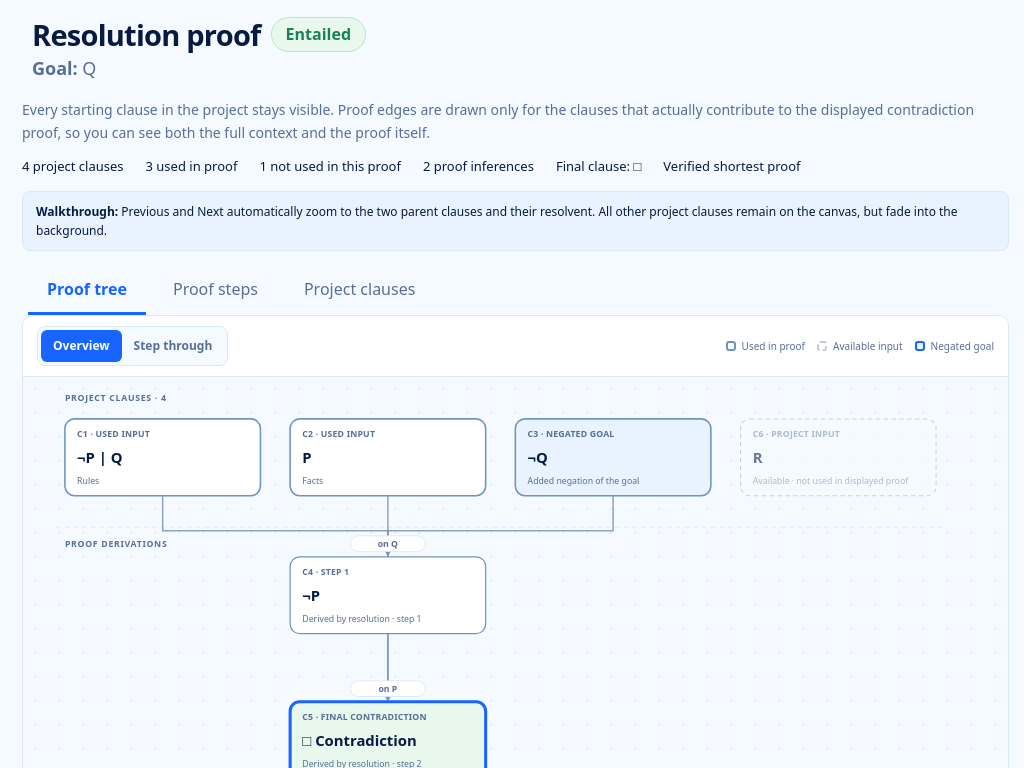
Test: ResolutionView › announces the contradiction and completes the project when the final proof step is reached
Click the button "Step through": x=173, y=346 [122, 330, 224, 362]
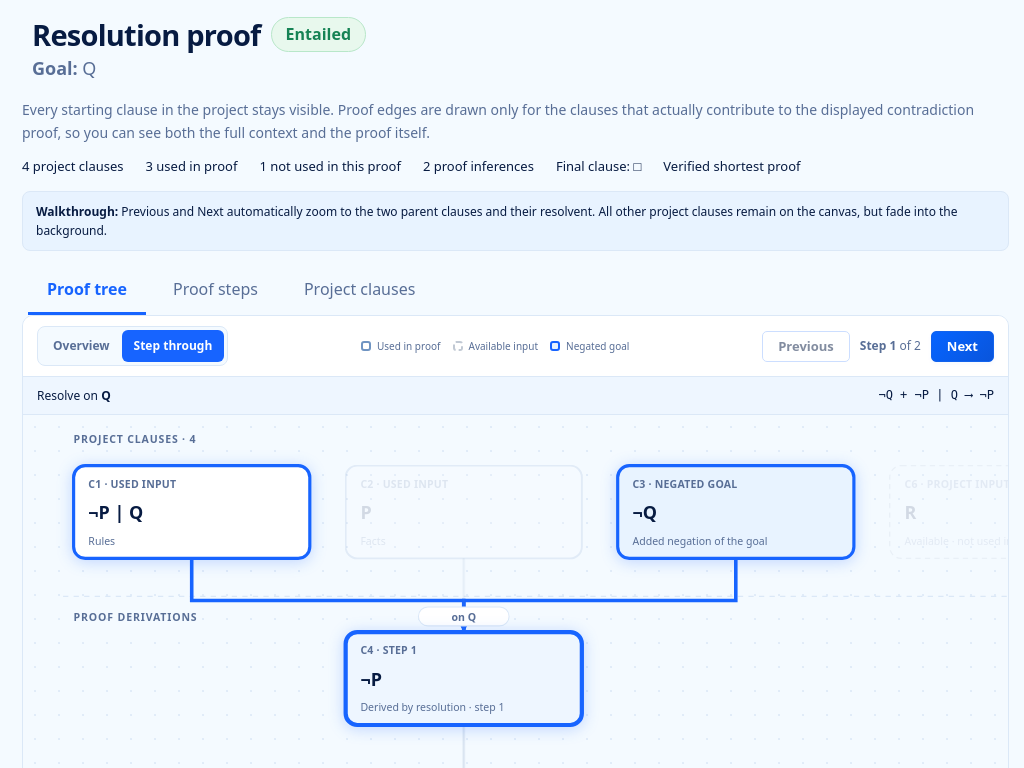
Click the button "Next": x=962, y=346 [931, 331, 994, 362]
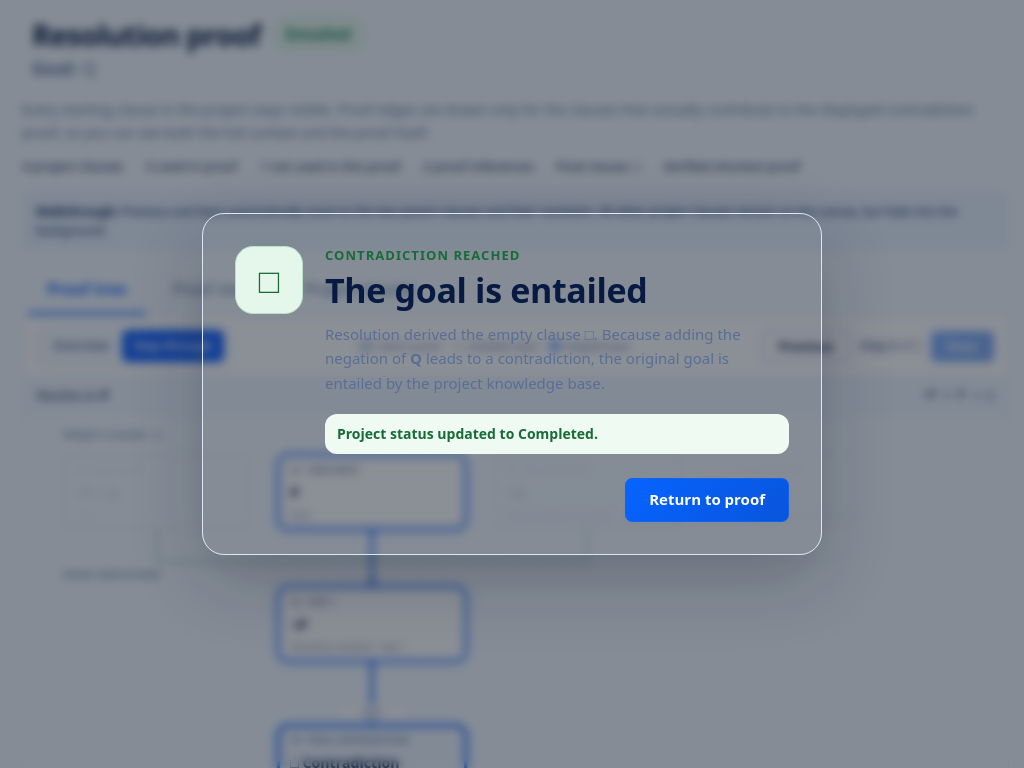
Expected: the dialog "The goal is entailed" is shown, [202, 213, 822, 555]
Expected: the text "Resolution derived the empty clause" is shown, [325, 324, 585, 344]
Expected: the text "Project status updated to Completed." is shown, [325, 414, 789, 454]
Click the button "Return to proof": x=707, y=500 [625, 478, 789, 522]
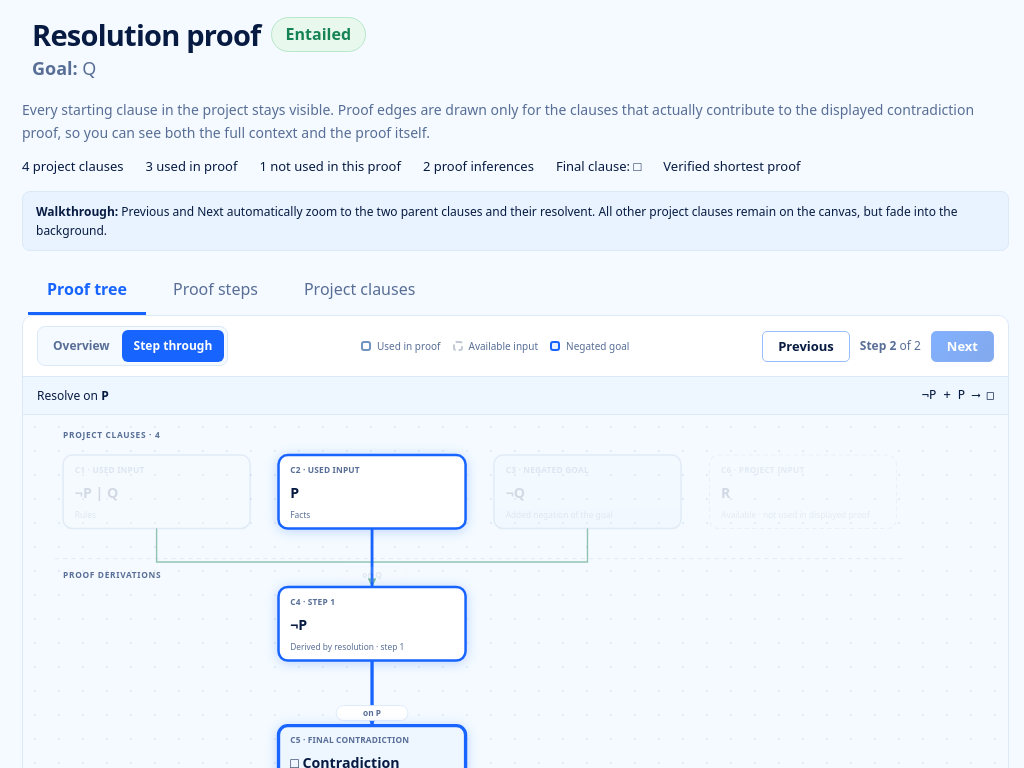
Expected: the heading "The goal is entailed" is gone
